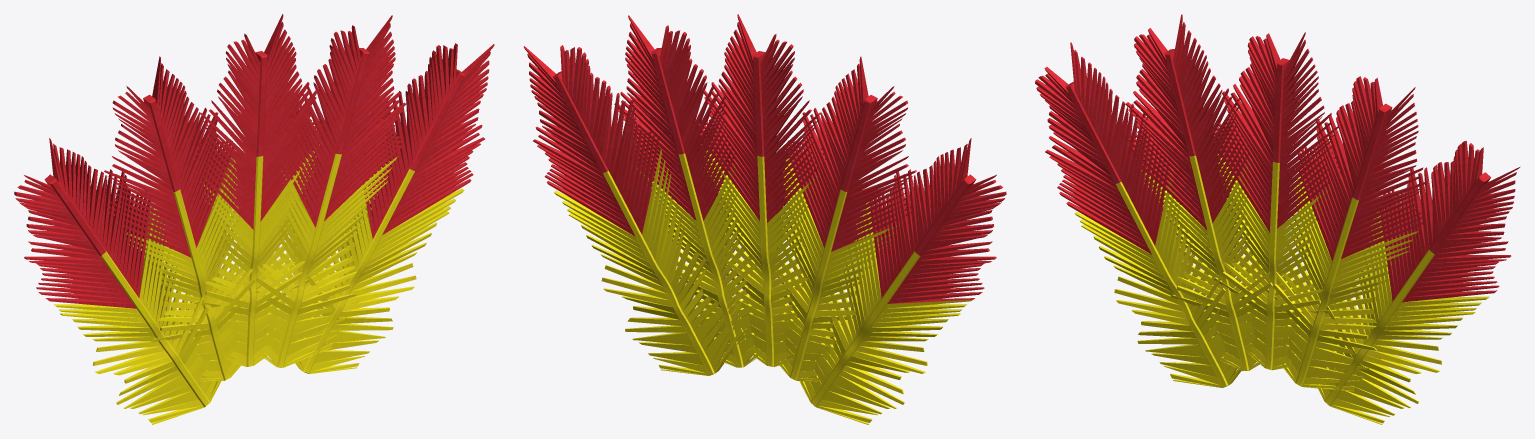
File: feather.fbx
The picture shows the model from 3 angles, left to right: view 1: azimuth 30°, elevation 25°; view 2: azimuth 150°, elevation 25°; view 3: azimuth 330°, elevation 25°; orthographic projection.
Parts seen in each view (by area): view 1: pCube10, pCube6, pCube7, pCube9, pCube8; view 2: pCube7, pCube10, pCube8, pCube9, pCube6; view 3: pCube10, pCube6, pCube7, pCube9, pCube8.
Part boxes in pixels (bbox=[...]): pCube10: bbox=[14, 138, 221, 424]; pCube6: bbox=[241, 15, 406, 367]; pCube7: bbox=[285, 43, 494, 373]; pCube9: bbox=[104, 56, 268, 381]; pCube8: bbox=[186, 14, 322, 366]; pCube7: bbox=[523, 45, 744, 375]; pCube10: bbox=[799, 138, 1006, 424]; pCube8: bbox=[698, 14, 834, 366]; pCube9: bbox=[749, 56, 916, 381]; pCube6: bbox=[614, 15, 784, 367]; pCube10: bbox=[1035, 42, 1248, 387]; pCube6: bbox=[1262, 76, 1429, 391]; pCube7: bbox=[1316, 140, 1520, 424]; pCube9: bbox=[1125, 14, 1292, 371]; pCube8: bbox=[1208, 32, 1340, 370].
Bounding box in the file's own units: 157 × 118 × 4.8.
2 materials, 2 textured.
